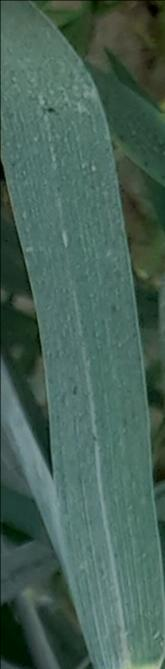Potato: (61, 350, 158, 643)
